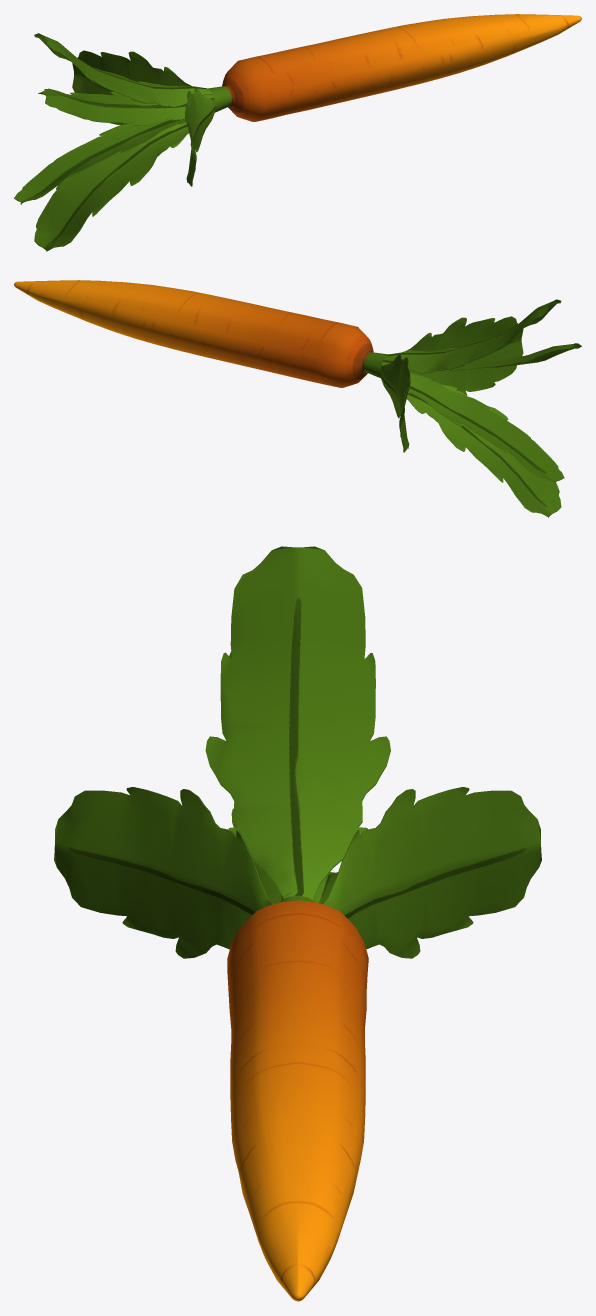
The model's file is Carrot_v2.fbx.
3 views of the same model, one above another, from view 1: azimuth 30°, elevation 25°; view 2: azimuth 150°, elevation 25°; view 3: azimuth 270°, elevation 25° (orthographic). The views are drawn at different scales.
Parts seen in each view (by area): view 1: Carrot; view 2: Carrot; view 3: Carrot.
Part boxes in pixels (x1,y1,x2,y2): Carrot: [14, 14, 581, 251]; Carrot: [14, 280, 581, 517]; Carrot: [54, 546, 541, 1301].
Size of the model in its own units: 5656 by 2066 by 2150.
3 materials, 3 textured.
